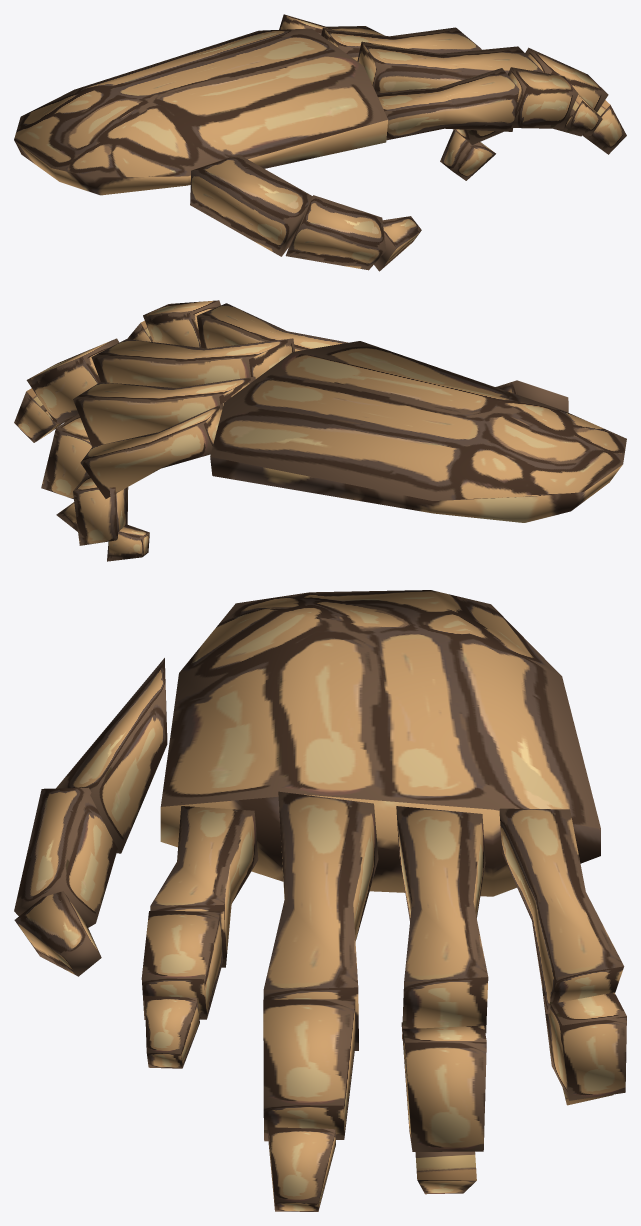
Rendered from SM_PROP_skeleton_hand_L_dungeon.fbx.
The picture shows the model from 3 angles, top to bottom: view 1: azimuth 30°, elevation 25°; view 2: azimuth 150°, elevation 25°; view 3: azimuth 270°, elevation 25°; orthographic projection. The views are drawn at different scales.
Visible parts, largest first — view 1: SM_PROP_skeleton_hand_L_dungeon; view 2: SM_PROP_skeleton_hand_L_dungeon; view 3: SM_PROP_skeleton_hand_L_dungeon.
Part boxes in pixels (box(x1,y1,x2,y2)): SM_PROP_skeleton_hand_L_dungeon: box(14, 14, 626, 271); SM_PROP_skeleton_hand_L_dungeon: box(14, 300, 626, 561); SM_PROP_skeleton_hand_L_dungeon: box(14, 590, 626, 1211).
Size of the model in its own units: 27.8 by 8.52 by 15.94.
